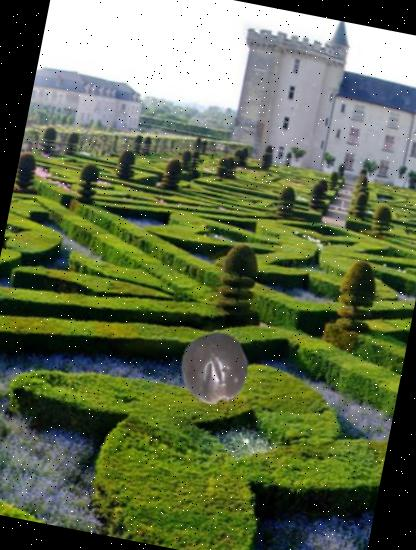Passion: (170, 326, 258, 412)
